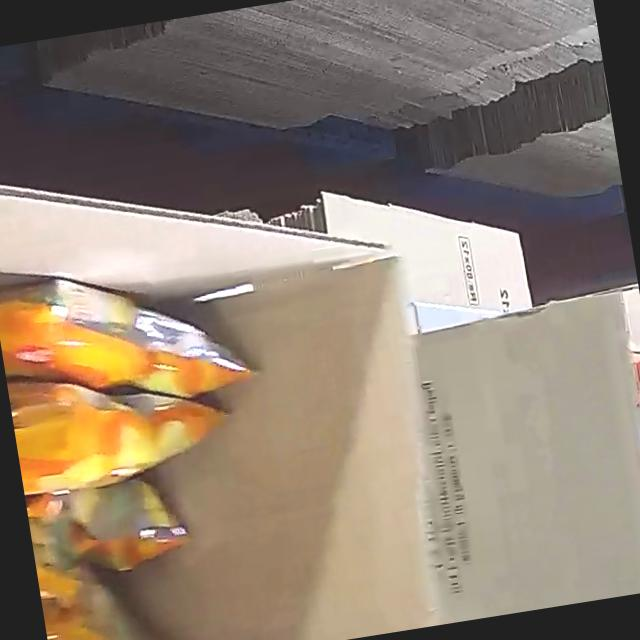cheese: (0, 213, 299, 640)
